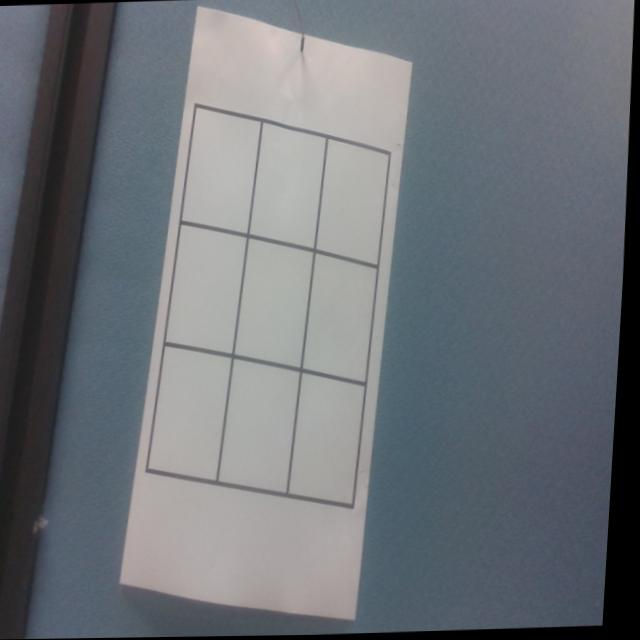null: (150, 343, 236, 488), (221, 355, 305, 498), (167, 222, 250, 359), (236, 237, 318, 371), (293, 373, 371, 510), (180, 104, 261, 234), (307, 252, 382, 386), (250, 121, 328, 249), (318, 138, 392, 268)
table: (148, 98, 400, 518)
